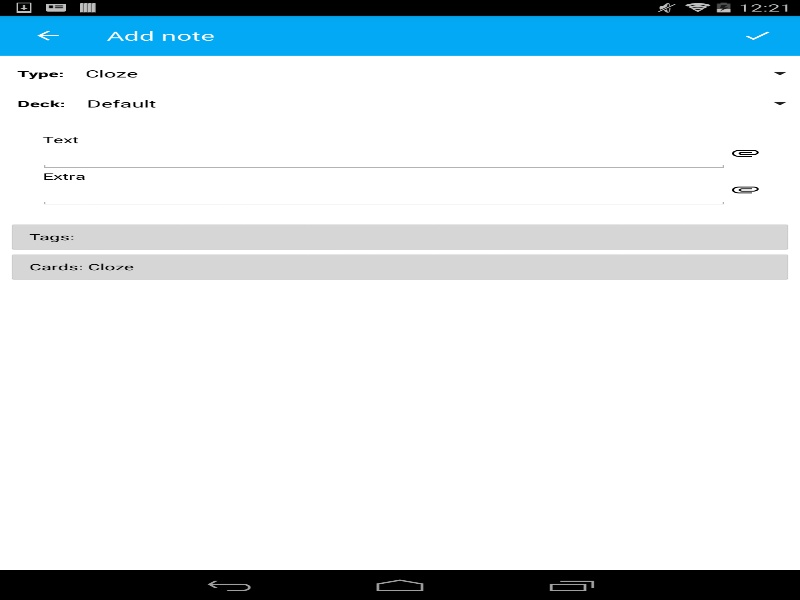Button: (10, 15, 85, 55), (729, 145, 761, 160), (729, 182, 761, 197)
Input: (38, 145, 729, 170), (38, 182, 729, 206)
